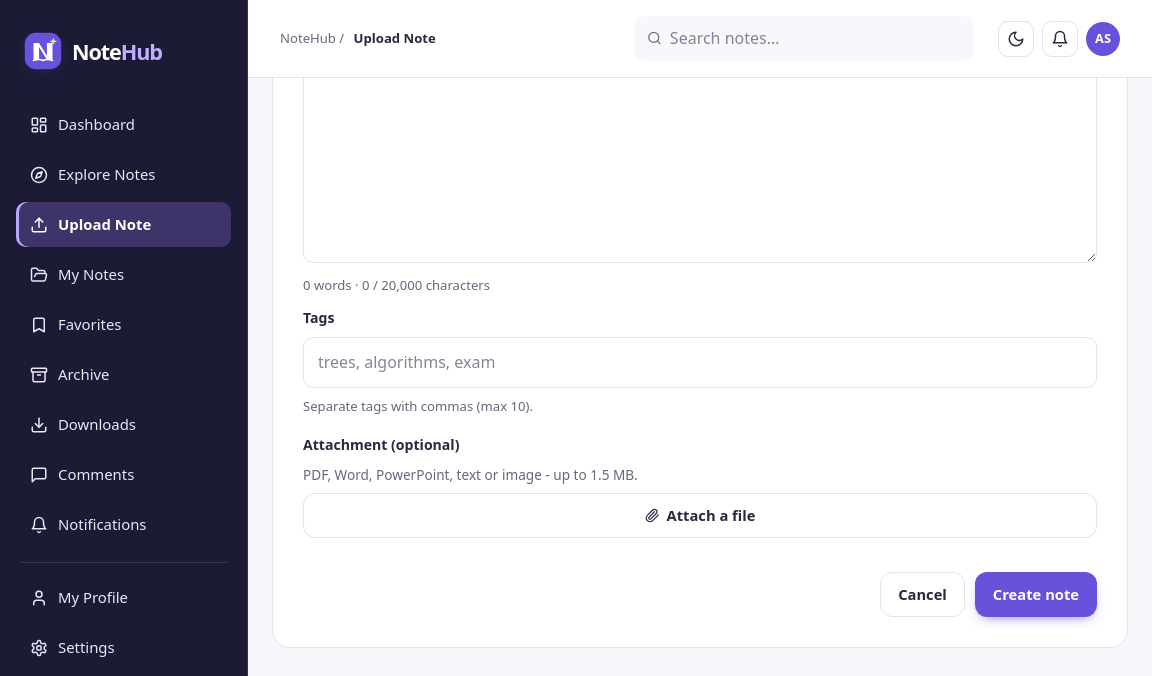
Test: asynchronous note workflows › validates the editor before sending a request
(page scrolled)
Click the button "Create note" at (1036, 594), box [975,572,1097,617]
(page scrolled)
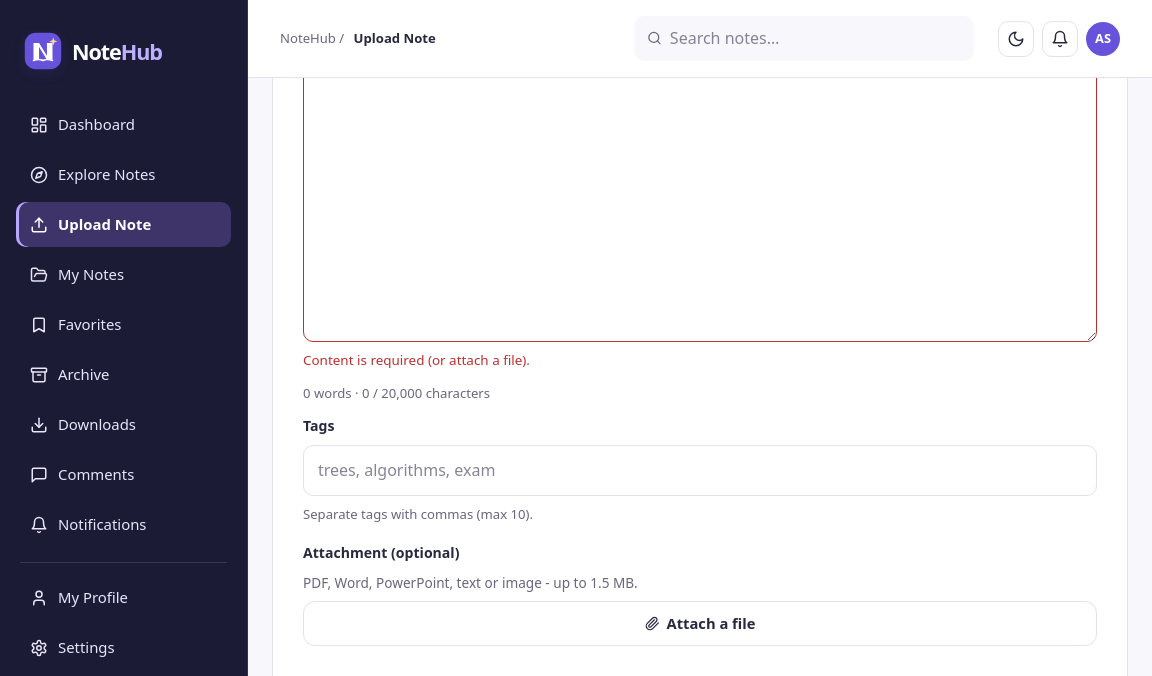
Check: the text "Content is required (or attach a file)." is shown, box [303,351,530,369]
